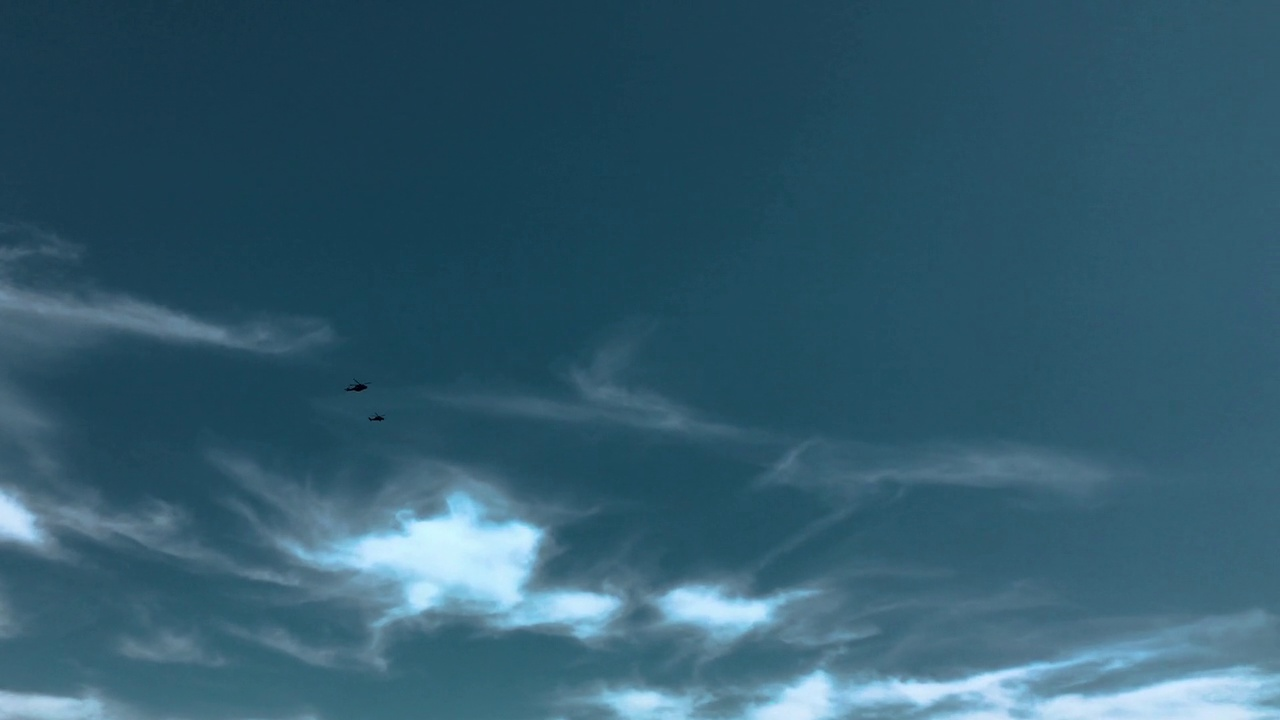heli: (343, 379, 370, 392), (368, 411, 385, 423)
